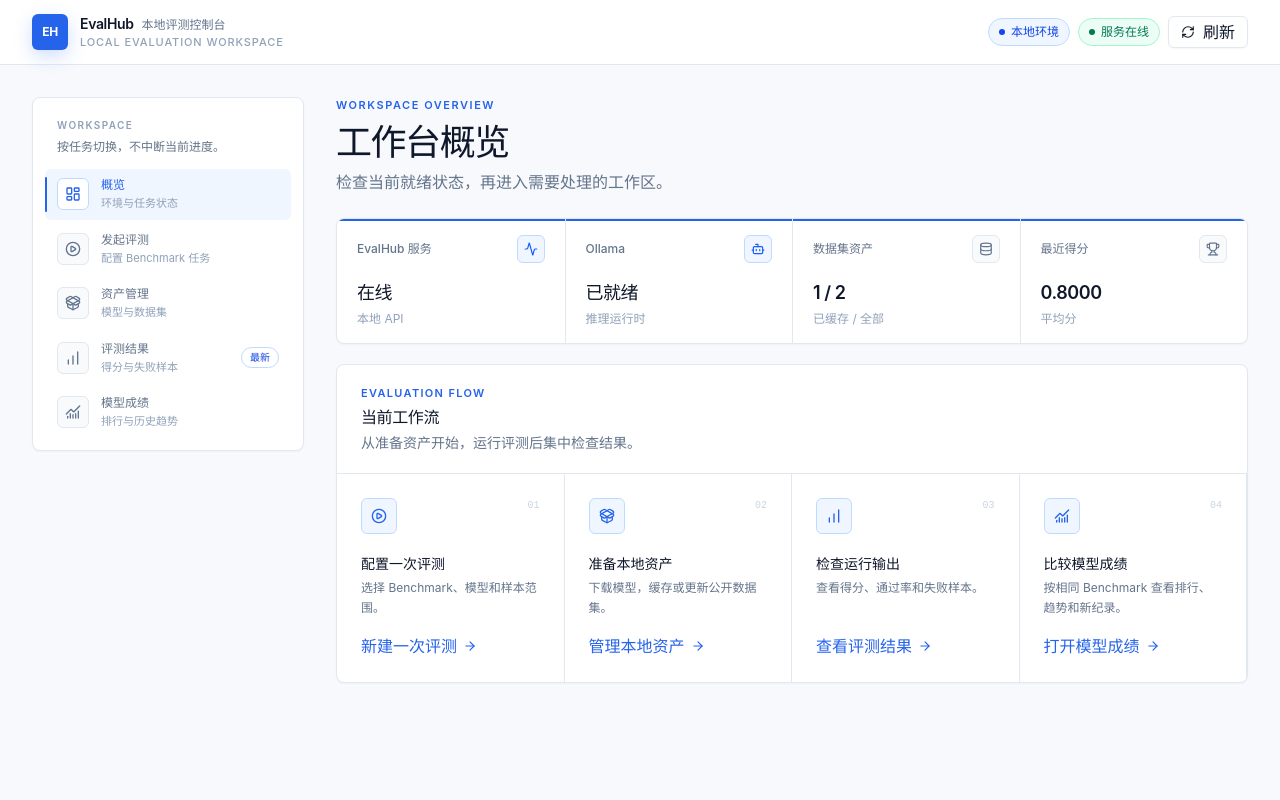
it: EvalHub console › presents a successful evaluation before collapsed raw JSON
The width and height of the screenshot is (1280, 800).
Click the button with aria-label "打开评测结果页面".
click(168, 358)  # box [45,332,291,383]
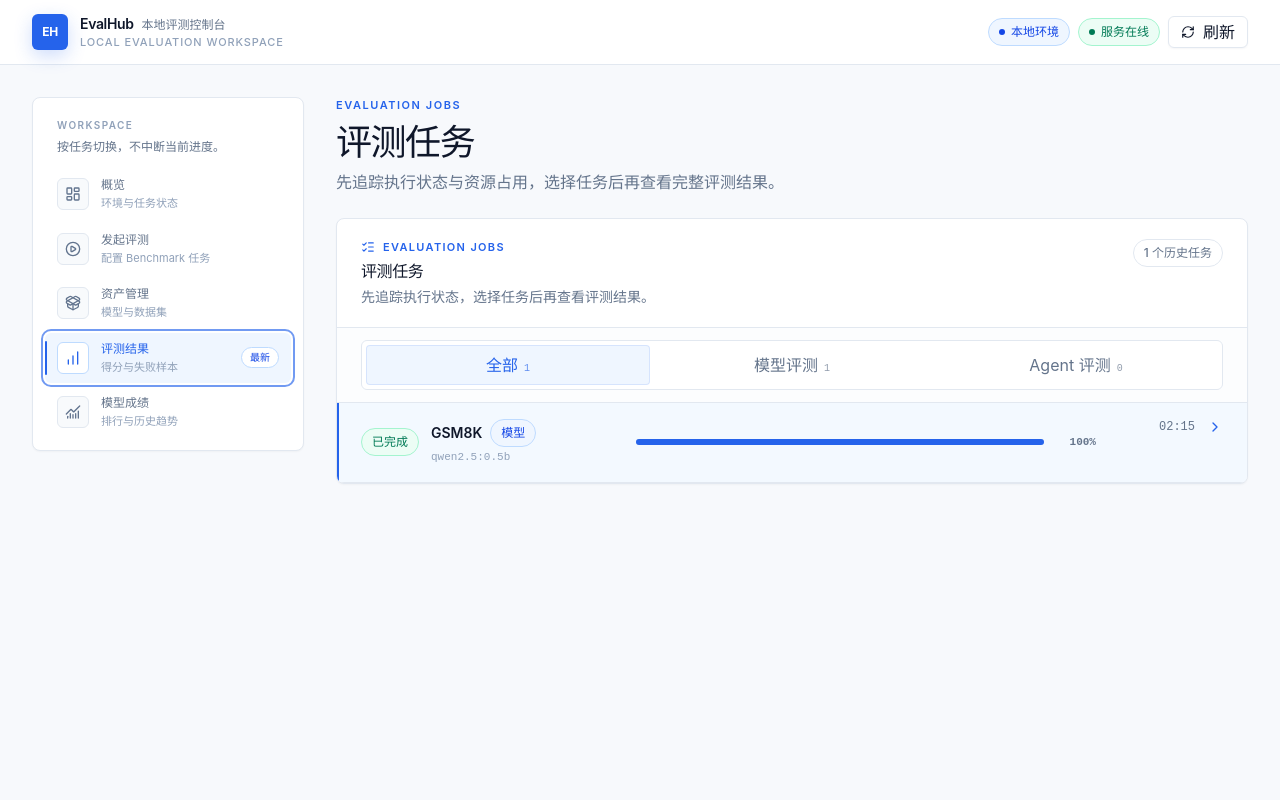
Click the button with aria-label "查看任务 job_success".
click(792, 442)  # box [337,403,1247,482]
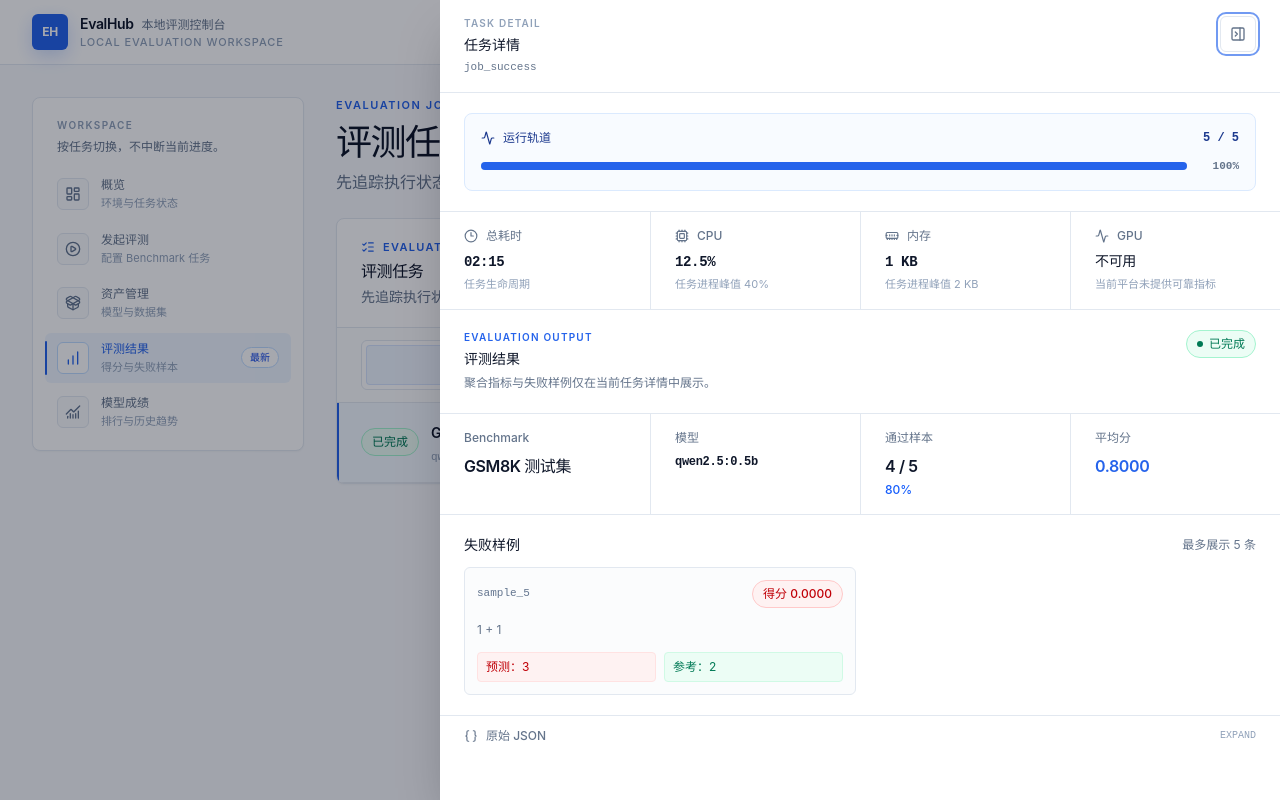
Check: the text "0.8000" is shown, box [1095,456,1149,476]
Check: the text "4 / 5" is shown, box [885,456,918,476]
